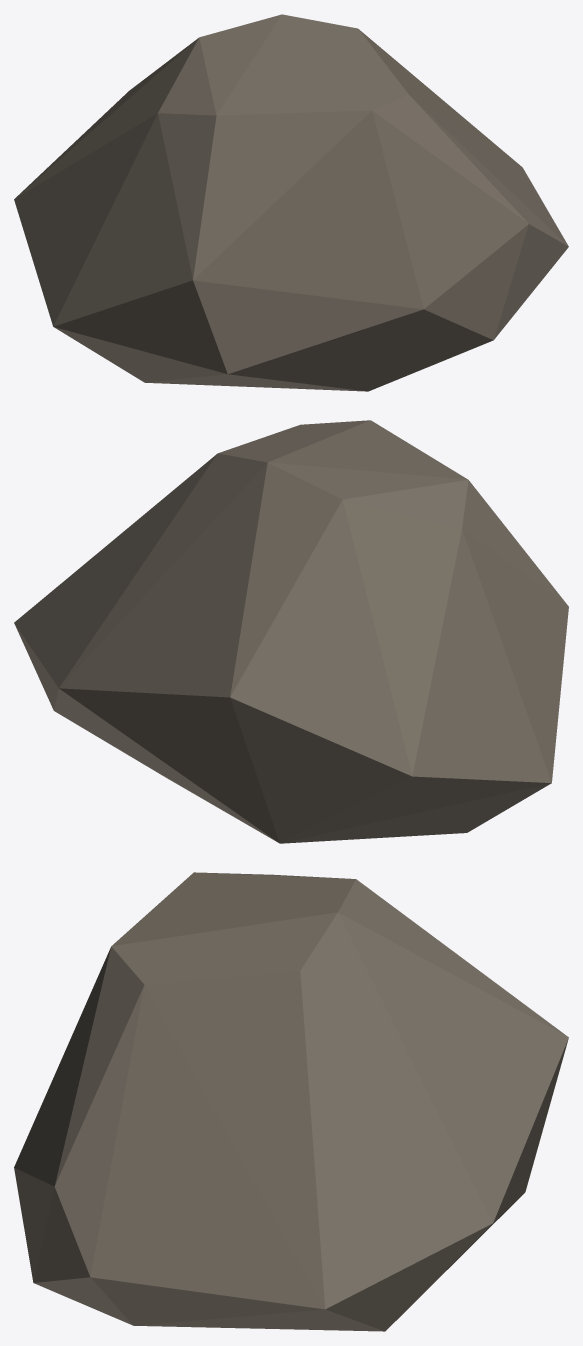
Rendered from Mosh 08.FBX.
3 views of the same model, one above another, from view 1: azimuth 30°, elevation 25°; view 2: azimuth 150°, elevation 25°; view 3: azimuth 270°, elevation 25° (orthographic). The views are drawn at different scales.
Visible parts, largest first — view 1: cube; view 2: cube; view 3: cube.
Part boxes in pixels (box(x1,y1,x2,y2)): cube: box(14, 14, 568, 391); cube: box(14, 420, 568, 843); cube: box(14, 872, 568, 1331).
Bounding box in the file's own units: 81.96 × 51.27 × 66.61.
